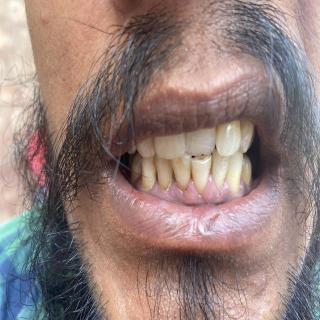maligned: (216, 121, 243, 157), (186, 126, 216, 158)
plaque: (160, 170, 176, 194), (139, 173, 157, 193)
stains: (172, 158, 192, 178), (208, 152, 217, 178)
